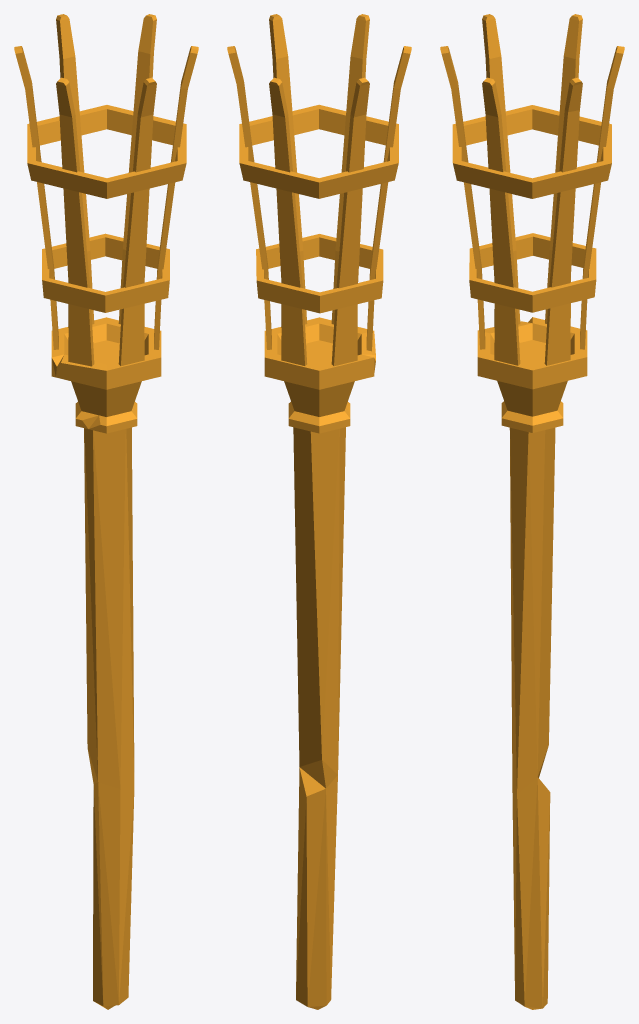
Rendered from SM_Torch_A_Fantasy.fbx.
The picture shows the model from 3 angles, left to right: view 1: azimuth 30°, elevation 25°; view 2: azimuth 150°, elevation 25°; view 3: azimuth 270°, elevation 25°; orthographic projection.
Visible parts, largest first — view 1: torch-a-fantasy; view 2: torch-a-fantasy; view 3: torch-a-fantasy.
Boxes of the visible parts, <box> form: torch-a-fantasy: <box>14,14,198,1009</box>; torch-a-fantasy: <box>227,14,411,1009</box>; torch-a-fantasy: <box>440,14,624,1009</box>.
Size of the model in its own units: 0.1273 by 0.7344 by 0.1273.
